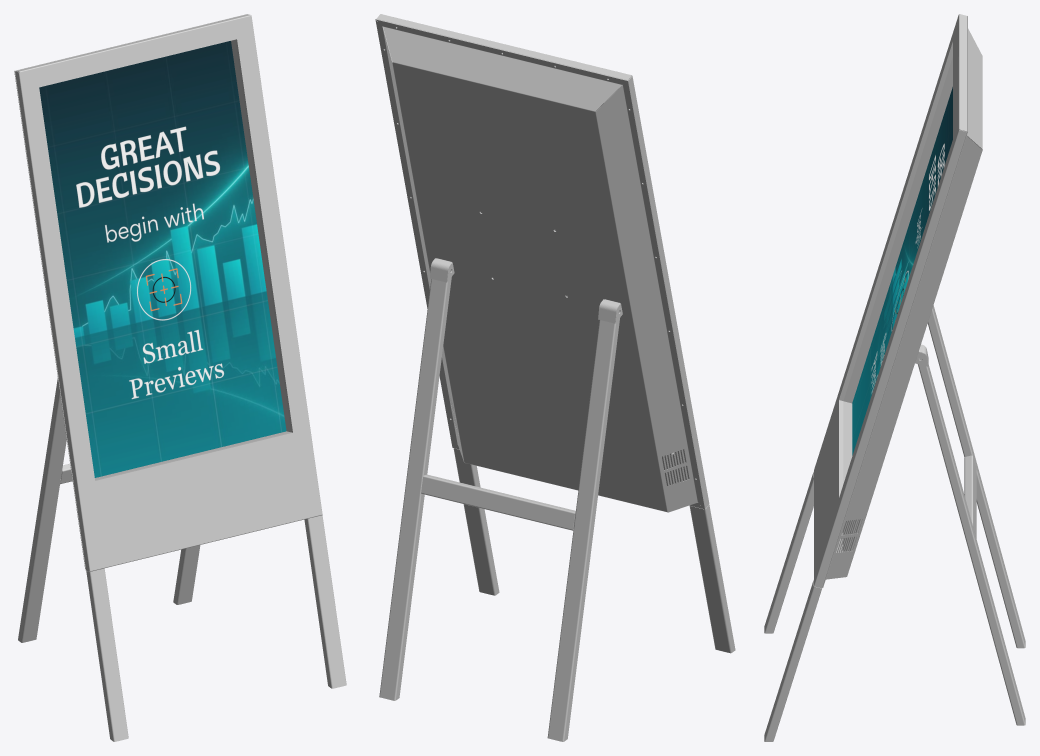
File: easel-small.glb
3 renders of one model, left to right at view 1: azimuth 30°, elevation 25°; view 2: azimuth 150°, elevation 25°; view 3: azimuth 270°, elevation 25°, orthographic. The views are drawn at different scales.
Parts seen in each view (by area): view 1: 43 Easel - Assy.001, 43 Easel - Assy; view 2: 43 Easel - Assy; view 3: 43 Easel - Assy, 43 Easel - Assy.001.
Boxes of the visible parts, x1,y1,x2,y2 form: 43 Easel - Assy.001: (39,41,286,477); 43 Easel - Assy: (14,14,346,741); 43 Easel - Assy: (375,14,735,741); 43 Easel - Assy: (764,14,1025,741); 43 Easel - Assy.001: (852,86,952,455).
Size of the model in its own units: 0.6154 by 1.51 by 0.5856.
Materials: 3 (1 with a texture image).
